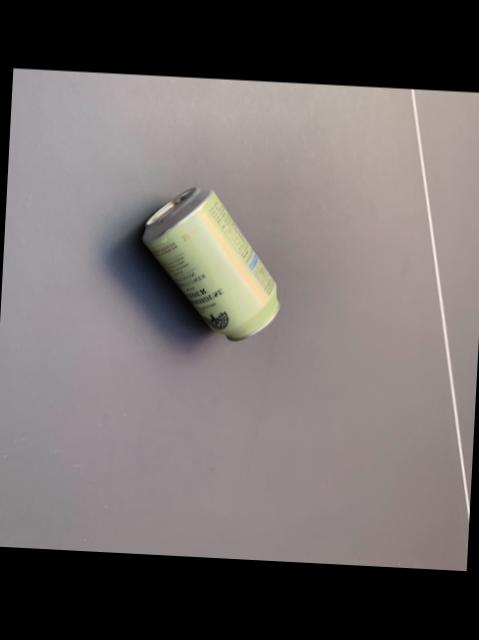metal: (143, 190, 278, 341)
